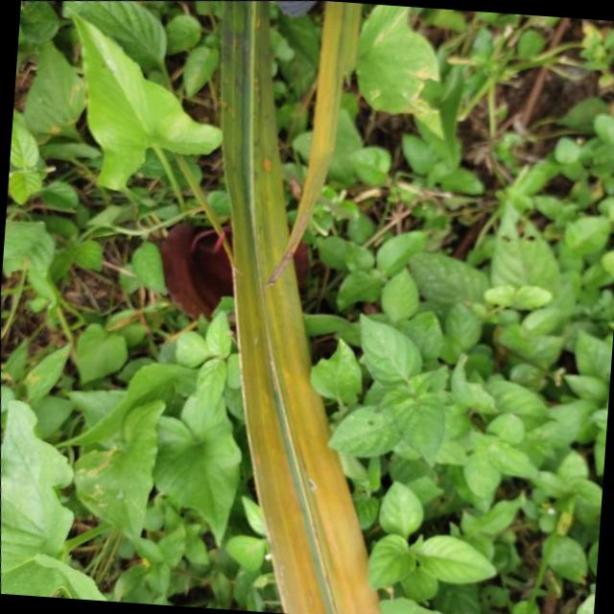Megnesium: (214, 0, 379, 614)
